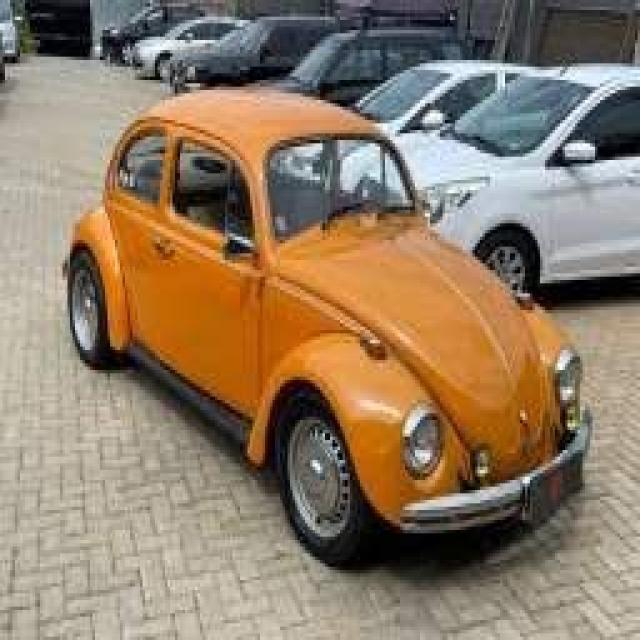0: (365, 56, 640, 292)
cars: (82, 87, 590, 550)
